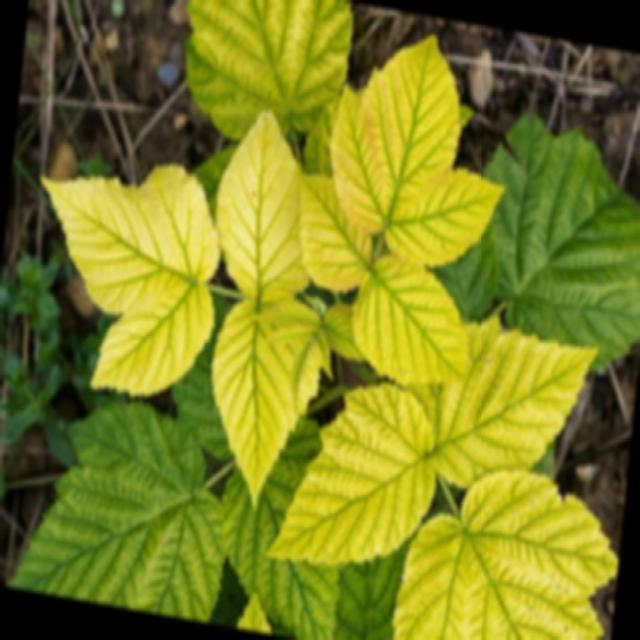Chlorosis: (66, 18, 640, 640)
